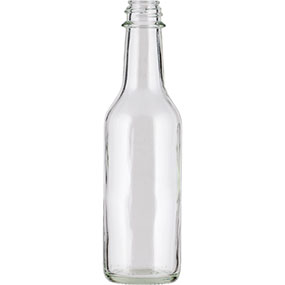glass_bottle: (97, 1, 183, 285)
